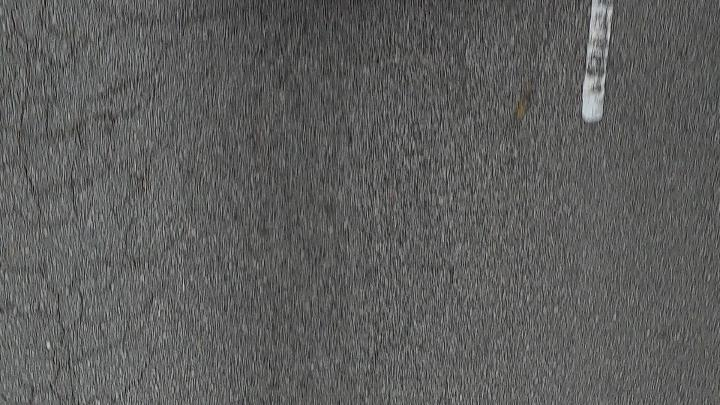Crack: (0, 2, 180, 405), (0, 0, 156, 257), (16, 339, 165, 404), (94, 230, 143, 279), (61, 21, 120, 57), (47, 298, 71, 333)
Lane: (578, 0, 616, 127), (582, 0, 611, 122)
